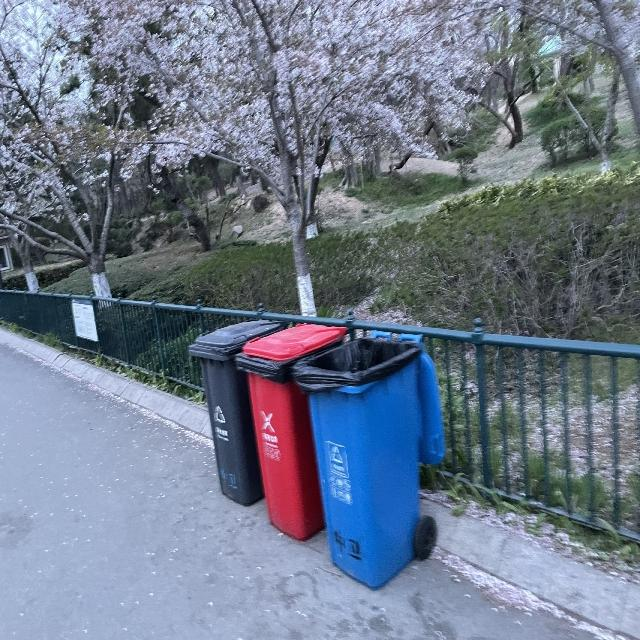garbage_bin: (294, 330, 421, 592), (233, 320, 348, 541), (187, 319, 283, 507)
